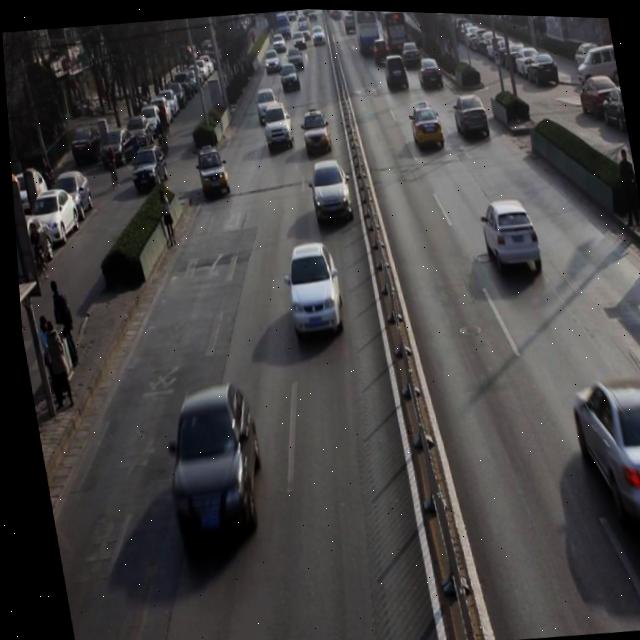car: (150, 379, 271, 558), (560, 363, 640, 541), (276, 240, 347, 346), (474, 192, 541, 278), (302, 155, 353, 226), (191, 142, 231, 199), (449, 88, 490, 139), (405, 99, 443, 153), (296, 103, 333, 156), (260, 98, 295, 151), (415, 50, 443, 90), (381, 50, 409, 89), (253, 87, 278, 123), (277, 63, 301, 94), (261, 46, 281, 76), (284, 45, 304, 72)
